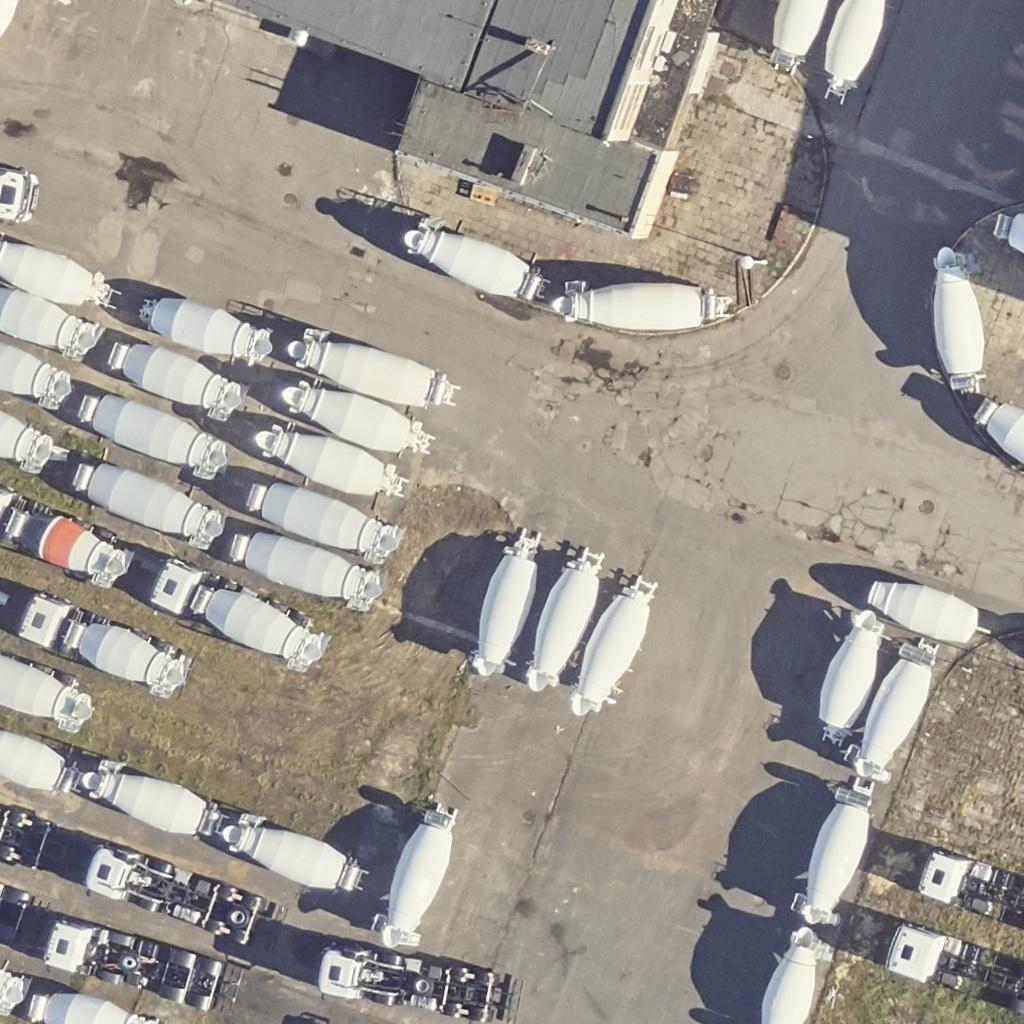betoniarka: (13, 592, 191, 696), (0, 486, 133, 587)
